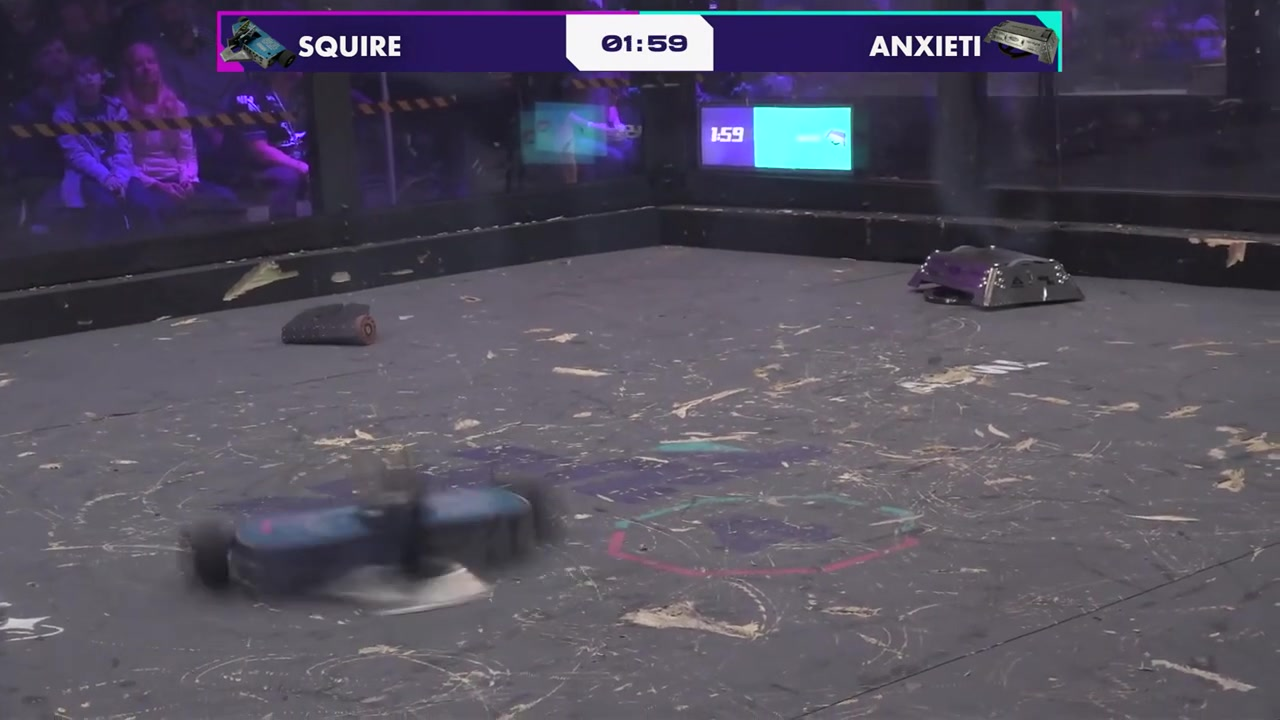combatbot: (234, 487, 536, 584), (910, 247, 1087, 309)
minibot: (283, 304, 378, 346)
